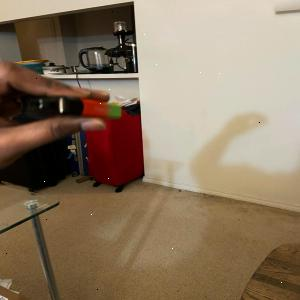Swift-E-Ciggirate: (21, 97, 124, 122)
